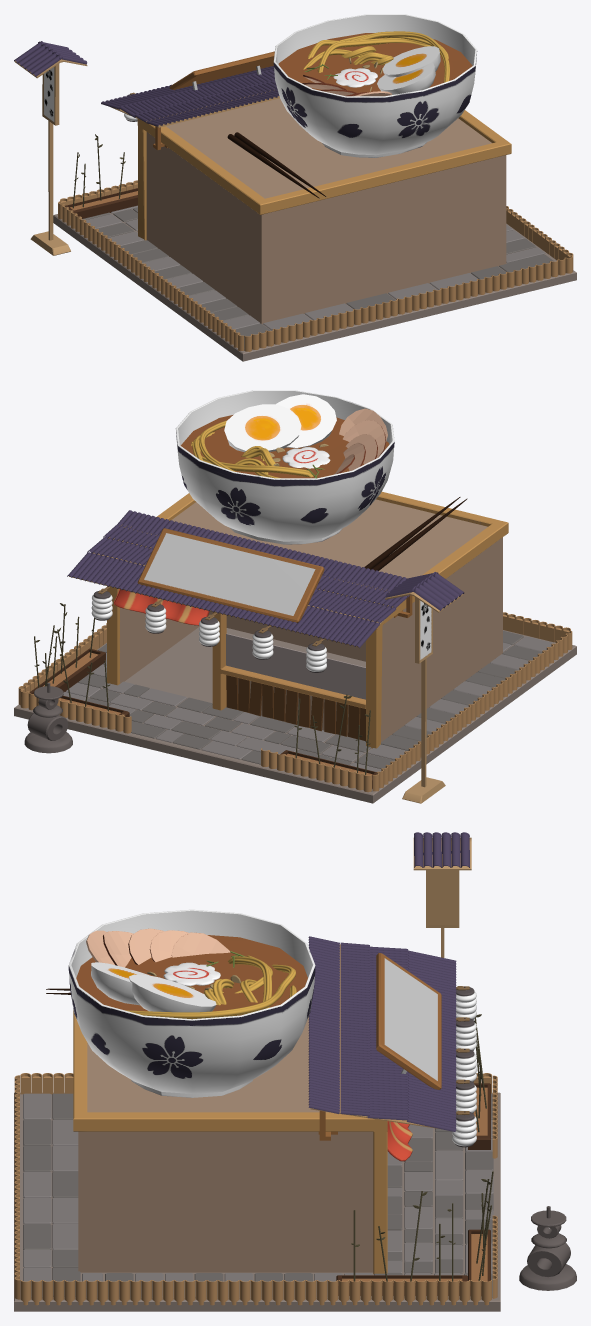
The model's file is MainRestaurant.fbx.
3 views of the same model, one above another, from view 1: azimuth 30°, elevation 25°; view 2: azimuth 150°, elevation 25°; view 3: azimuth 270°, elevation 25° (orthographic). The views are drawn at different scales.
Visible parts, largest first — view 1: MSH_Restaurant, MSH_Tazon/Palillos, MSH_piso, MSH_Regita, MSH_Tejado/Techo, MSH_Ingredientes, MSH_Letreros/Soportes, MSH_Masetas, MSH_Letreros/Soportes.001; view 2: MSH_Restaurant, MSH_piso, MSH_Tazon/Palillos, MSH_Tejado/Techo, MSH_Puestito, MSH_Letreros/Soportes.001, MSH_Ingredientes, MSH_Regita, MSH_Masetas, MSH_Lamparas, MSH_Letreros/Soportes, MSH_Fuente (+1 smaller); view 3: MSH_Restaurant, MSH_piso, MSH_Tazon/Palillos, MSH_Tejado/Techo, MSH_Regita, MSH_Ingredientes, MSH_Letreros/Soportes.001, MSH_Masetas, MSH_Lamparas, MSH_Fuente, MSH_Letreros/Soportes, MSH_Sombrita.
Part boxes in pixels (left/top/right/bottom): MSH_Restaurant: left=137, top=98, right=511, bottom=324; MSH_Tazon/Palillos: left=227, top=14, right=477, bottom=198; MSH_piso: left=53, top=205, right=576, bottom=361; MSH_Regita: left=58, top=180, right=573, bottom=351; MSH_Tejado/Techo: left=14, top=41, right=279, bottom=127; MSH_Ingredientes: left=302, top=31, right=449, bottom=96; MSH_Letreros/Soportes: left=14, top=59, right=167, bottom=255; MSH_Masetas: left=65, top=134, right=137, bottom=218; MSH_Letreros/Soportes.001: left=169, top=51, right=274, bottom=90; MSH_Restaurant: left=107, top=491, right=508, bottom=748; MSH_piso: left=14, top=626, right=576, bottom=803; MSH_Tazon/Palillos: left=175, top=390, right=467, bottom=570; MSH_Tejado/Techo: left=67, top=510, right=464, bottom=647; MSH_Puestito: left=212, top=612, right=365, bottom=740; MSH_Letreros/Soportes.001: left=137, top=528, right=324, bottom=622; MSH_Ingredientes: left=191, top=394, right=387, bottom=478; MSH_Regita: left=18, top=612, right=572, bottom=792; MSH_Masetas: left=29, top=603, right=376, bottom=788; MSH_Lamparas: left=91, top=586, right=326, bottom=672; MSH_Letreros/Soportes: left=385, top=592, right=462, bottom=803; MSH_Fuente: left=24, top=682, right=72, bottom=753; MSH_Restaurant: left=73, top=1010, right=387, bottom=1274; MSH_piso: left=14, top=1092, right=500, bottom=1311; MSH_Tazon/Palillos: left=46, top=909, right=315, bottom=1097; MSH_Tejado/Techo: left=308, top=832, right=469, bottom=1131; MSH_Regita: left=14, top=1073, right=497, bottom=1305; MSH_Ingredientes: left=86, top=928, right=296, bottom=1019; MSH_Letreros/Soportes.001: left=376, top=953, right=441, bottom=1089; MSH_Masetas: left=336, top=1014, right=493, bottom=1295; MSH_Lamparas: left=452, top=986, right=476, bottom=1147; MSH_Fuente: left=519, top=1206, right=576, bottom=1290; MSH_Letreros/Soportes: left=318, top=837, right=471, bottom=1140; MSH_Sombrita: left=387, top=1121, right=412, bottom=1161.
Size of the model in its own units: 2719 by 1425 by 2677.
